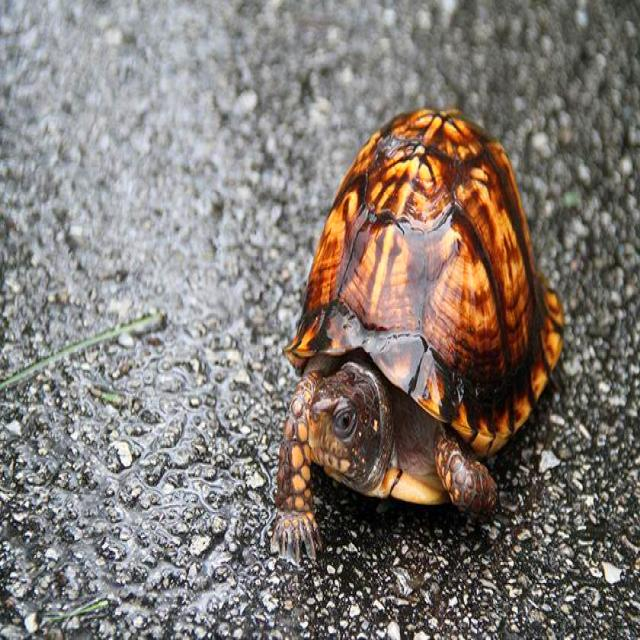turtle: (272, 110, 562, 559)
